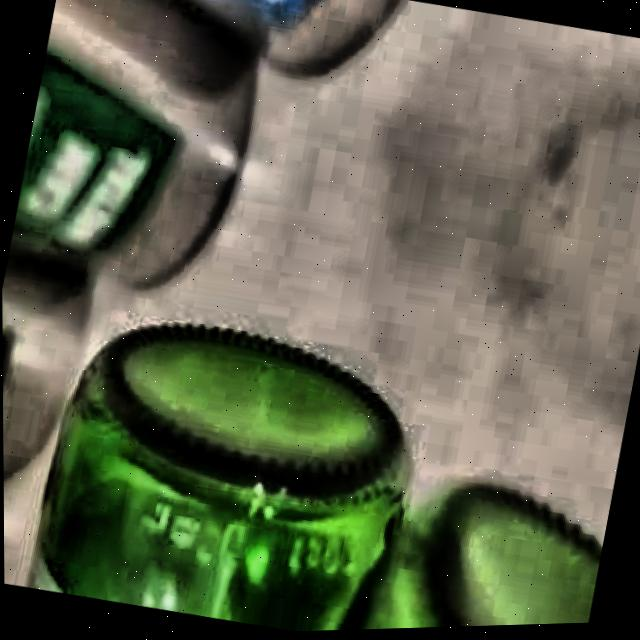glass: (26, 327, 601, 633)
